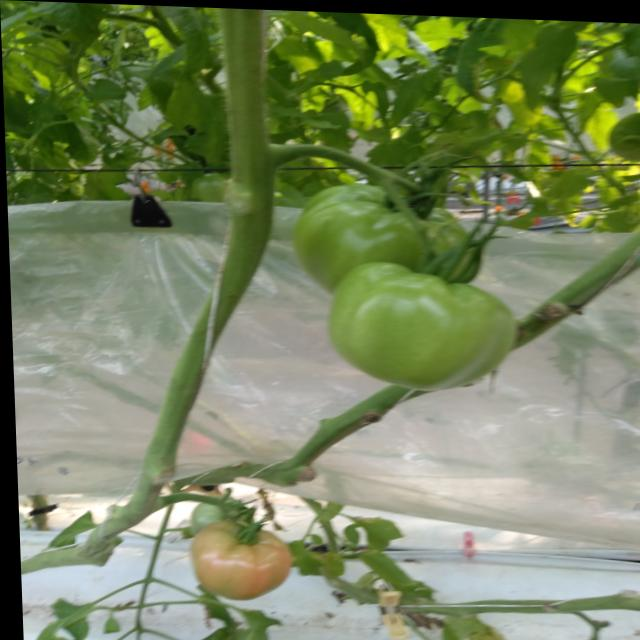yesil: (296, 167, 509, 391)
